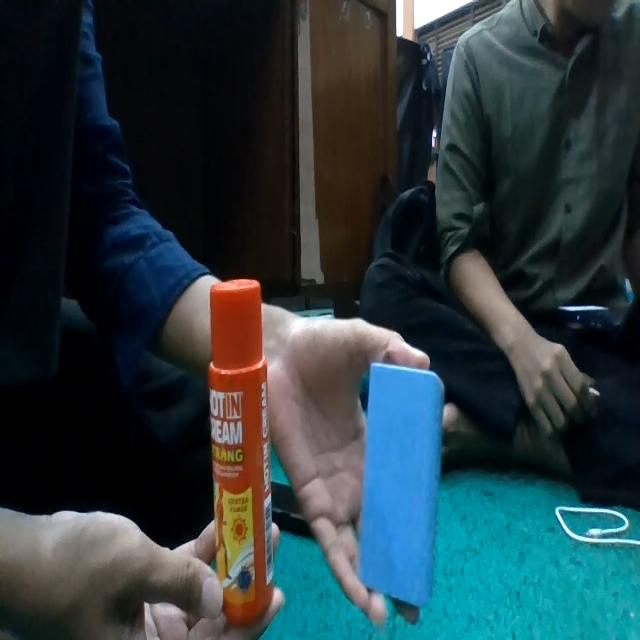Boncabe: (209, 280, 273, 624), (358, 363, 444, 616)
Powerbank: (358, 363, 444, 616)
